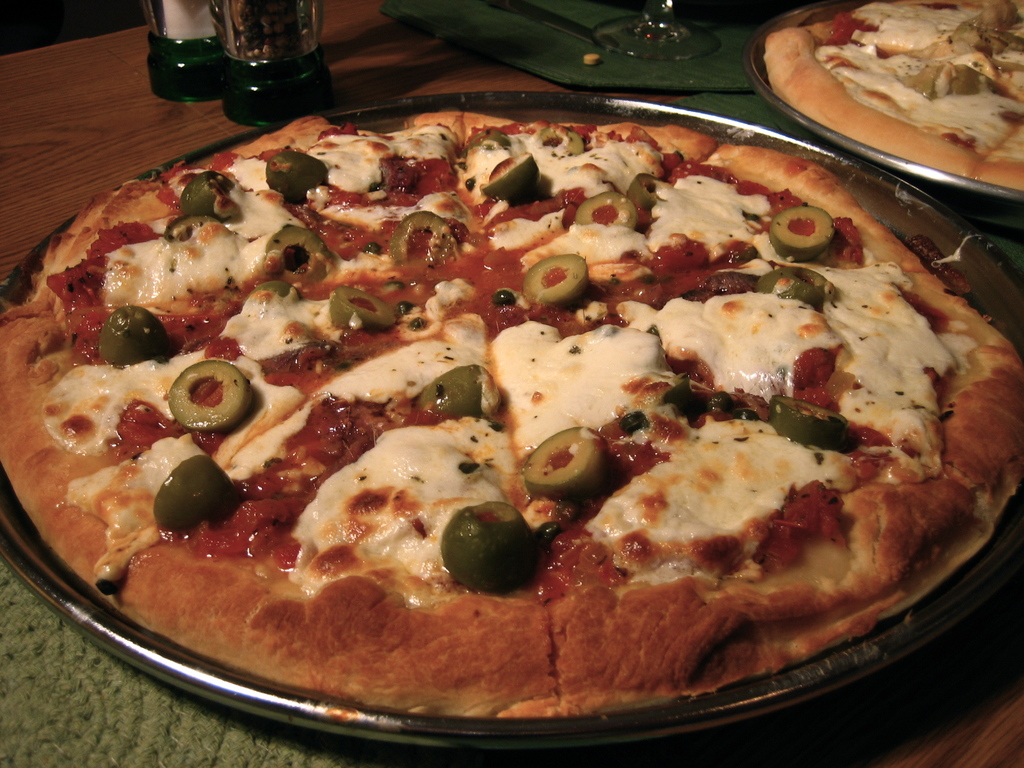Pizza: (31, 89, 1024, 722), (764, 0, 1023, 190)
